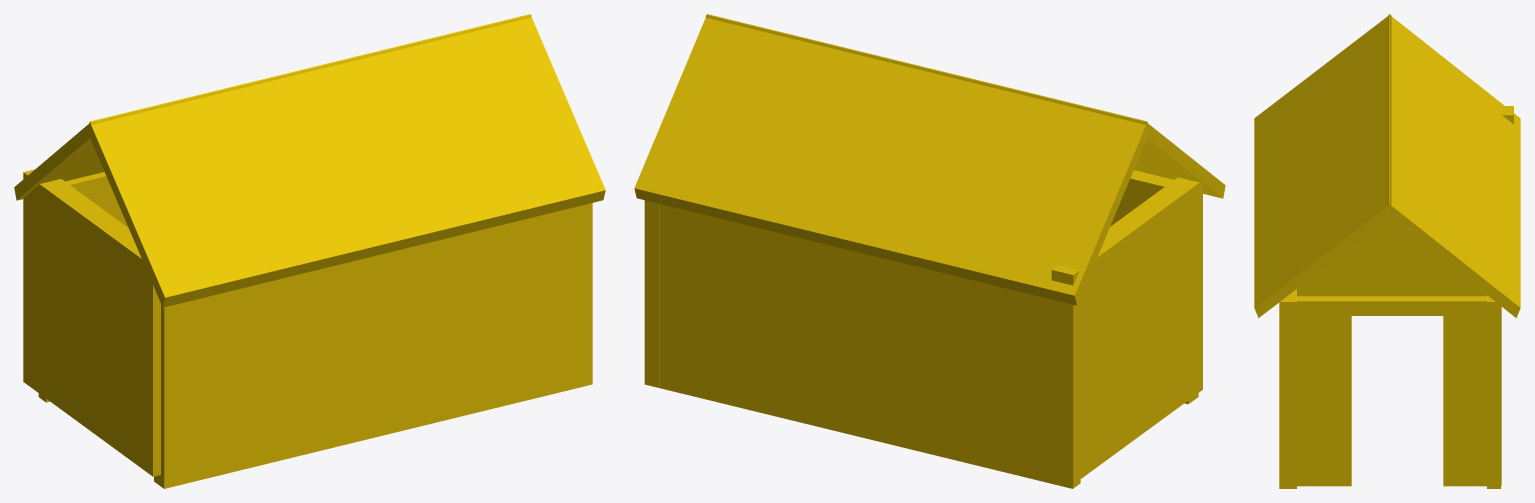
Rendered from Hut_01_W_Collider.fbx.
3 views of the same model, side by side, from view 1: azimuth 30°, elevation 25°; view 2: azimuth 150°, elevation 25°; view 3: azimuth 270°, elevation 25° (orthographic). The views are drawn at different scales.
Visible parts, largest first — view 1: Hut_01_W_Collider; view 2: Hut_01_W_Collider; view 3: Hut_01_W_Collider.
Part boxes in pixels (x1,y1,x2,y2): Hut_01_W_Collider: (14,14,605,488); Hut_01_W_Collider: (634,14,1225,488); Hut_01_W_Collider: (1254,14,1520,488).
Bounding box in the file's own units: 644 × 450 × 380.
